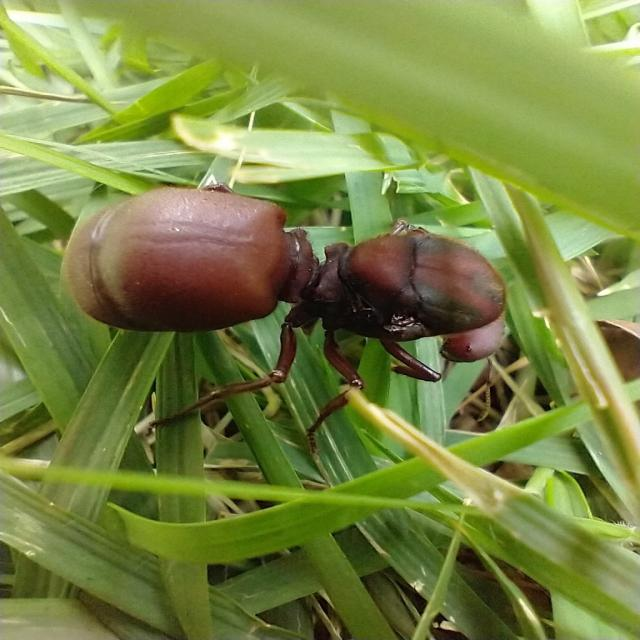Alive-Female-Dealate: (61, 182, 510, 464)
